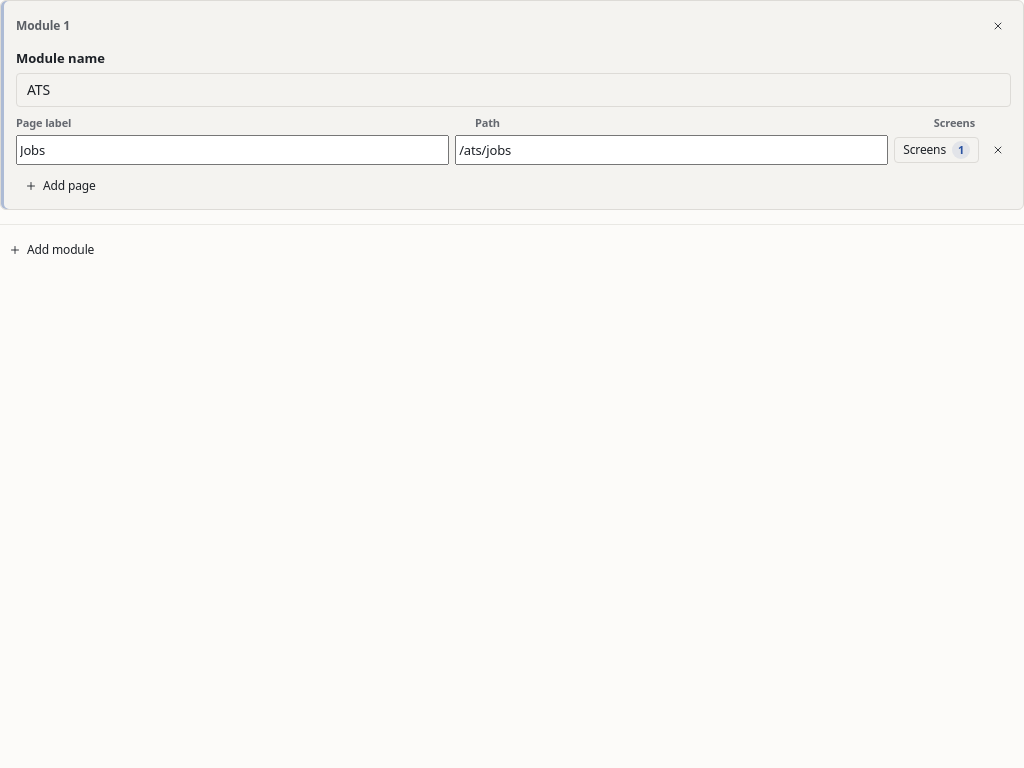
Test case: ProjectModulesEditor › opens the screens drawer for a page row
Click the button "Screens 1": click(937, 150) [894, 137, 979, 163]
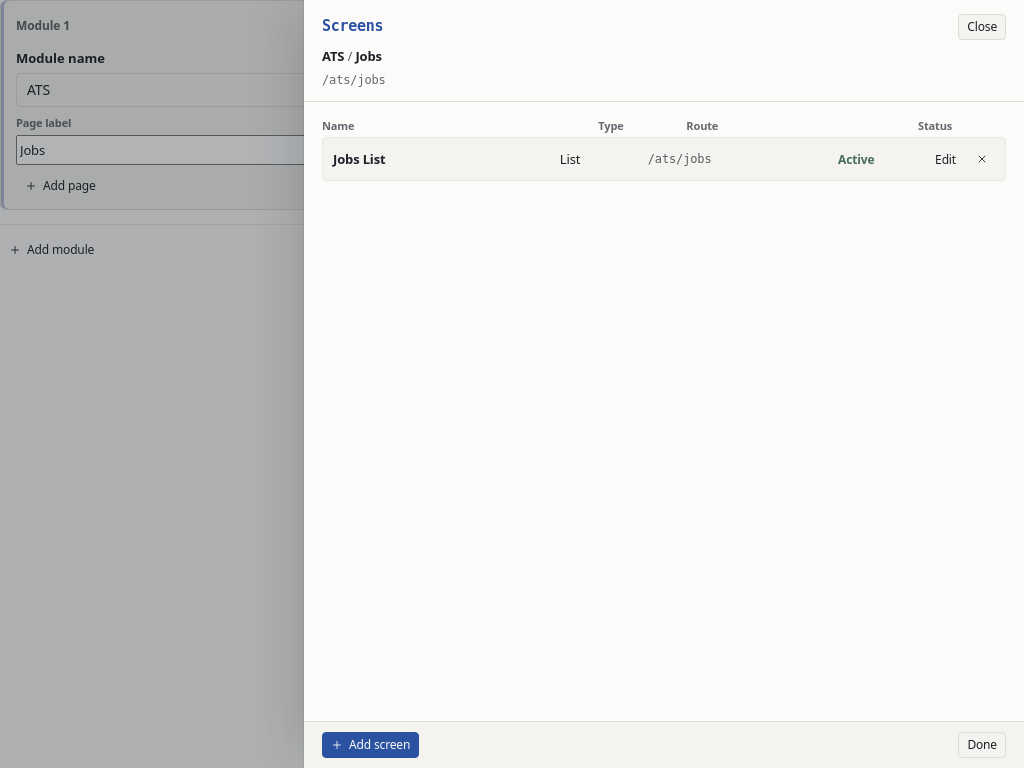
Expected: the dialog "Screens" is shown
Expected: the text "Jobs List" is shown, [333, 150, 386, 168]
Expected: the text "ATS" is shown, [322, 47, 344, 65]
